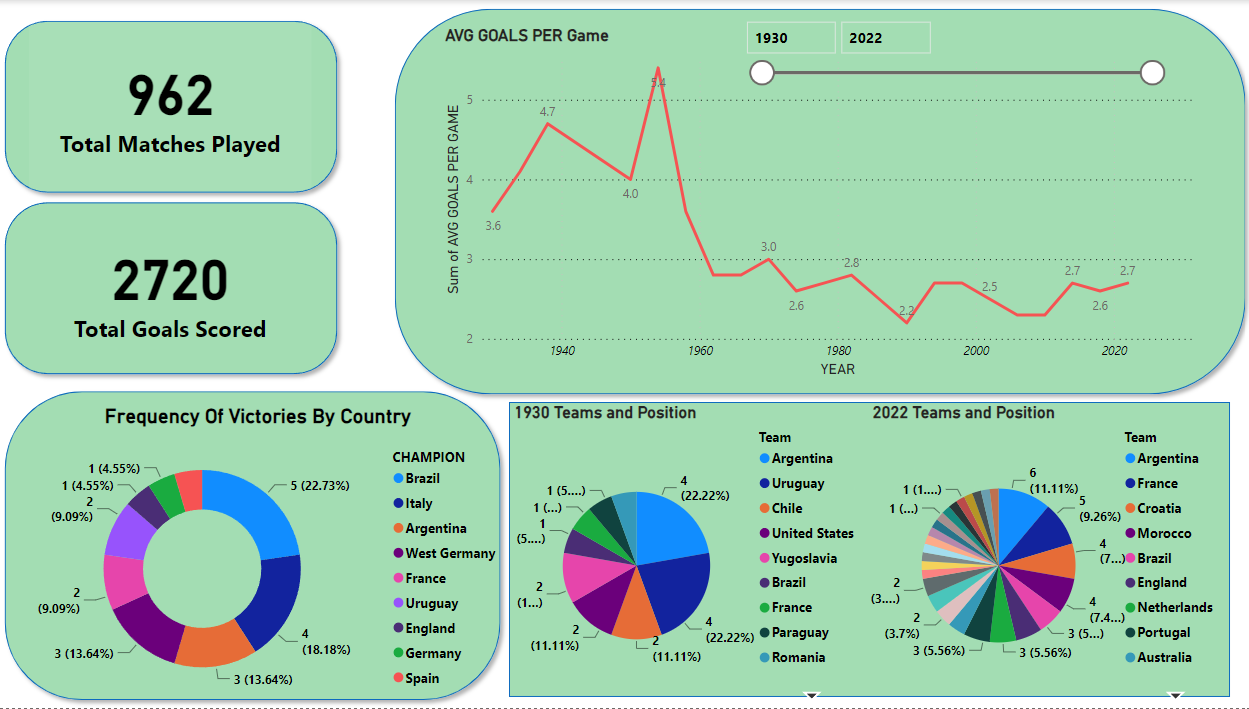

This screenshot's page, from the dashboard's own definition file:
{"tool":"powerbi","page":{"name":"Page 1","canvas":[1280,720],"ordinal":0},"visuals":[{"type":"shape","box":[521.7,408.3,733.3,300],"z":0},{"type":"shape","box":[0,12.2,355.9,192.5],"z":1000},{"type":"card","fields":{"Values":["FIFA - World Cup Summary.Total Matches Played"]},"box":[33.6,12.2,287.2,184.8],"z":2000},{"type":"shape","box":[0,197,355.9,192.5],"z":3000},{"type":"card","fields":{"Values":["FIFA - World Cup Summary.Total Goals Scored"]},"box":[33.6,197,287.2,192.5],"z":4000},{"type":"shape","box":[0,388.3,521.7,331.7],"z":5000},{"type":"donutChart","title":"Frequency Of Victories By Country","fields":{"Y":["FIFA - World Cup Summary.Number Of Times Won"],"Category":["FIFA - World Cup Summary.CHAMPION"]},"box":[10,410,511.7,310],"z":6000},{"type":"shape","box":[396.7,0,883.3,410],"z":7000},{"type":"lineChart","title":" AVG GOALS PER Game","fields":{"Y":["Sum(FIFA - World Cup Summary.AVG GOALS PER GAME)"],"Category":["FIFA - World Cup Summary.YEAR","FIFA - World Cup Summary.CHAMPION"]},"box":[451.7,26.7,773.3,361.7],"z":8000},{"type":"slicer","fields":{"Values":["FIFA - World Cup Summary.YEAR"]},"box":[750,11.7,446.7,81.7],"z":9000},{"type":"pieChart","title":"1930 Teams and Position","fields":{"Category":["FIFA - 1930.Team"],"Series":["FIFA - 1930.Position"],"Y":["Sum(FIFA - 1930.Win)"]},"box":[521.7,408.3,365,311.7],"z":10000},{"type":"pieChart","title":"2022 Teams and Position","fields":{"Category":["FIFA - 2022.Team"],"Series":["FIFA - 2022.Position"],"Y":["Sum(FIFA - 2022.Win)"]},"box":[886.7,408.3,368.3,311.7],"z":11000}]}

Visuals, with their boxes in screenshot pixels (x1, y1, x2, y2), scaled from the page's 1280x720 canvas onto the 1249x709 screenshot:
shape: Rect(509, 402, 1225, 697)
shape: Rect(0, 12, 347, 202)
card - FIFA - World Cup Summary.Total Matches Played: Rect(33, 12, 313, 194)
shape: Rect(0, 194, 347, 384)
card - FIFA - World Cup Summary.Total Goals Scored: Rect(33, 194, 313, 384)
shape: Rect(0, 382, 509, 708)
"Frequency Of Victories By Country" donutChart: Rect(10, 404, 509, 708)
shape: Rect(387, 0, 1248, 404)
" AVG GOALS PER Game" lineChart: Rect(441, 26, 1195, 382)
slicer - FIFA - World Cup Summary.YEAR: Rect(732, 12, 1168, 92)
"1930 Teams and Position" pieChart: Rect(509, 402, 865, 708)
"2022 Teams and Position" pieChart: Rect(865, 402, 1225, 708)
